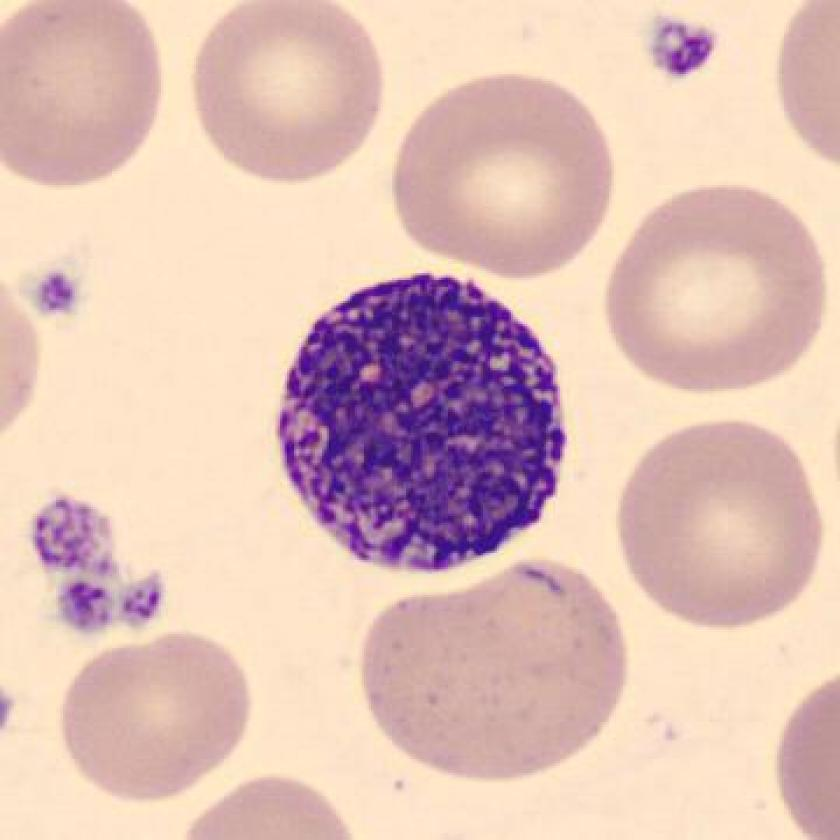basophil: (269, 255, 582, 575)
